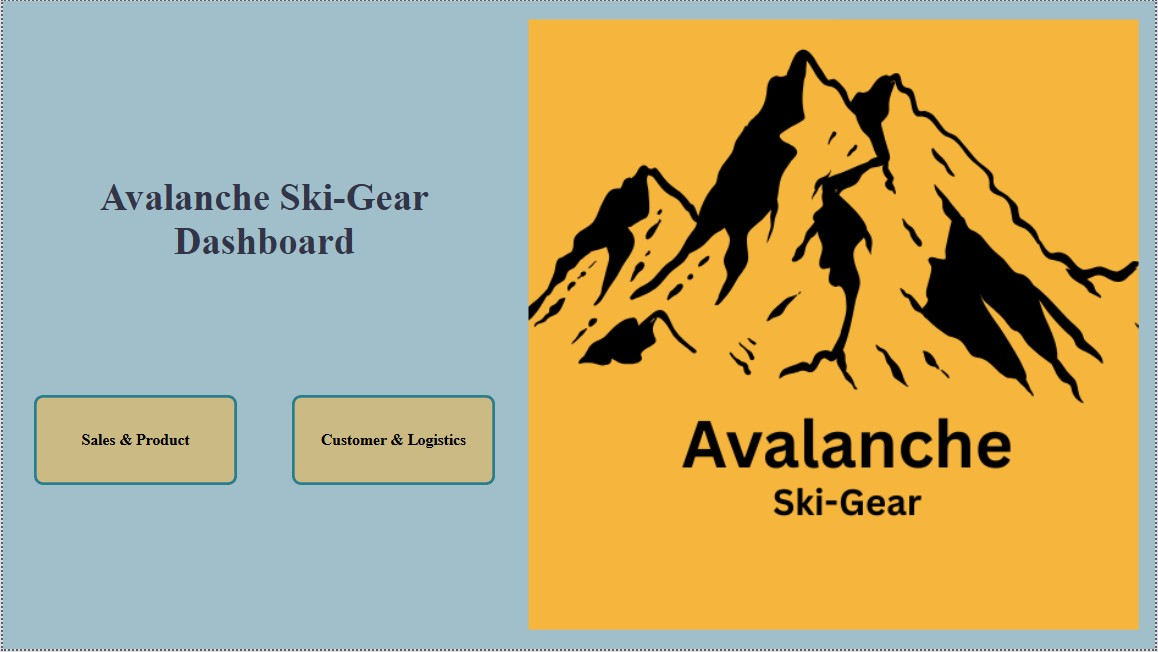

This screenshot's page, from the dashboard's own definition file:
{"tool":"powerbi","page":{"name":"Overview","canvas":[1280,720],"ordinal":0},"visuals":[{"type":"image","box":[578.9,15.6,687.8,687.8],"z":0},{"type":"actionButton","box":[321.1,437.8,225.6,100],"z":1},{"type":"actionButton","box":[34.4,437.8,225.6,100],"z":2},{"type":"textbox","box":[34.4,187.8,512.2,113.3],"z":3}]}

Visuals, with their boxes in screenshot pixels (x1, y1, x2, y2), scaled from the page's 1280x720 canvas onto the 1158x652 screenshot:
image: crop(524, 14, 1146, 637)
actionButton: crop(290, 396, 495, 487)
actionButton: crop(31, 396, 235, 487)
textbox: crop(31, 170, 495, 273)
